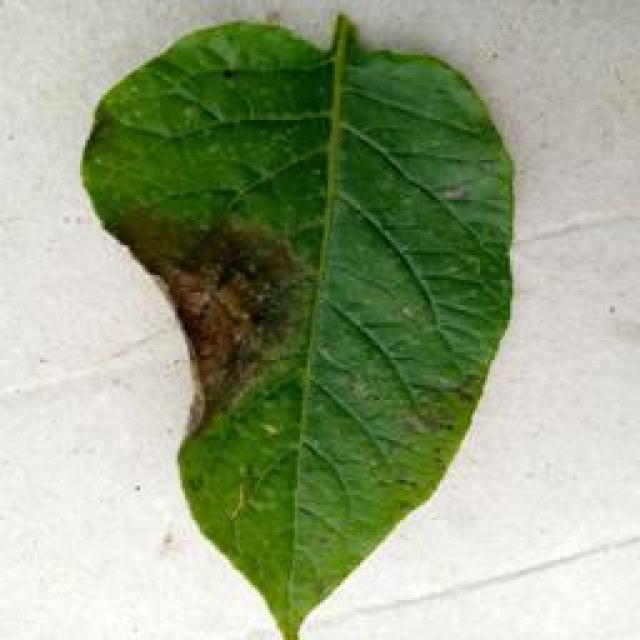late_blight: (75, 12, 520, 638)
